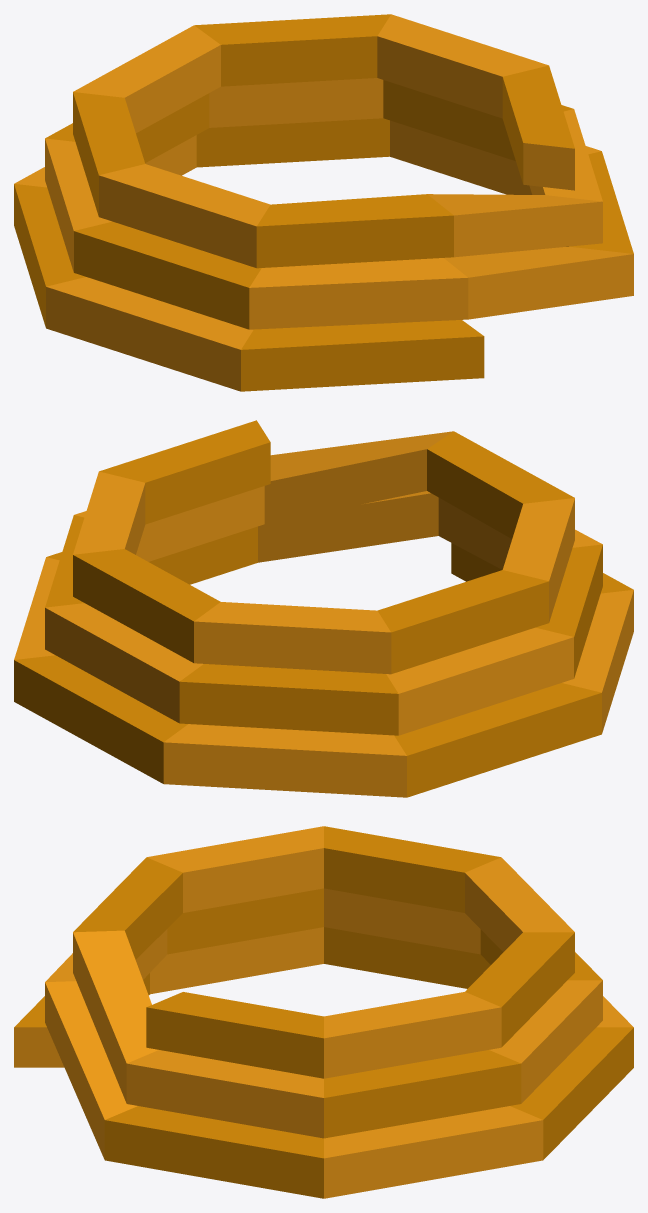
Rendered from rope.glb.
The picture shows the model from 3 angles, top to bottom: view 1: azimuth 30°, elevation 25°; view 2: azimuth 150°, elevation 25°; view 3: azimuth 270°, elevation 25°; orthographic projection. The views are drawn at different scales.
Parts seen in each view (by area): view 1: rope; view 2: rope; view 3: rope.
Boxes of the visible parts, x1,y1,x2,y2 form: rope: [14, 14, 633, 391]; rope: [14, 420, 633, 797]; rope: [14, 826, 633, 1198].
Bounding box in the file's own units: 0.7469 × 0.1824 × 0.7469.
